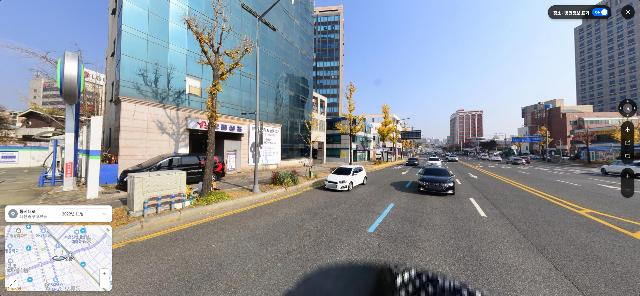ginkgo: (177, 0, 256, 198), (335, 82, 369, 165), (374, 104, 399, 162), (301, 108, 320, 177), (535, 125, 556, 160), (389, 123, 408, 160)
other: (575, 126, 600, 164), (484, 139, 499, 154)
